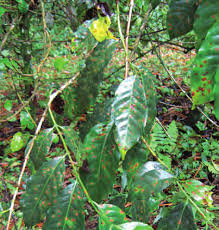ojo de gallo: (119, 86, 145, 141), (188, 59, 208, 98)
